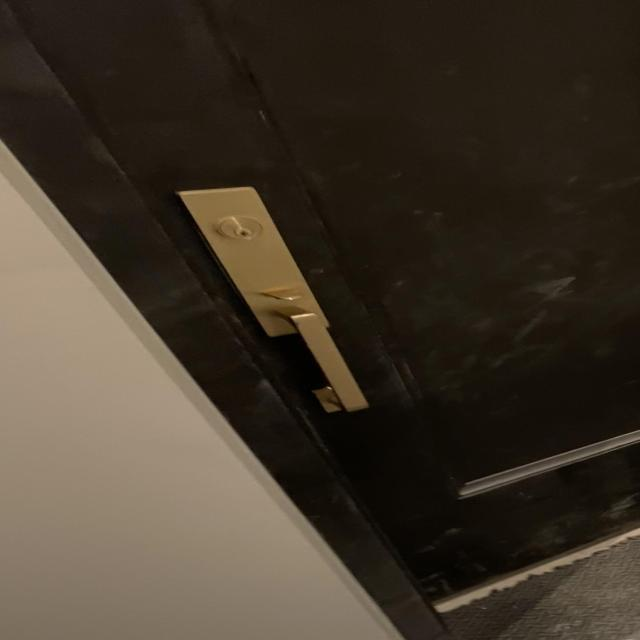door_handle: (266, 310, 373, 421)
